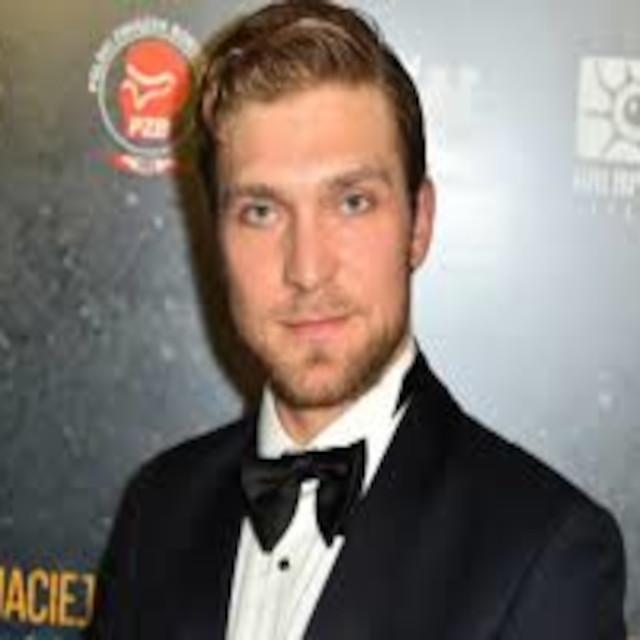mezczyzna: (108, 0, 623, 640)
